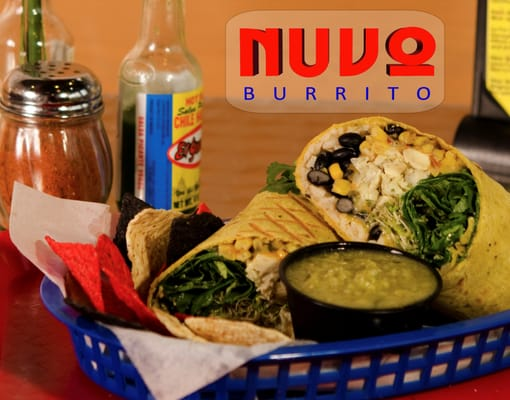sushi: (280, 240, 443, 341)
